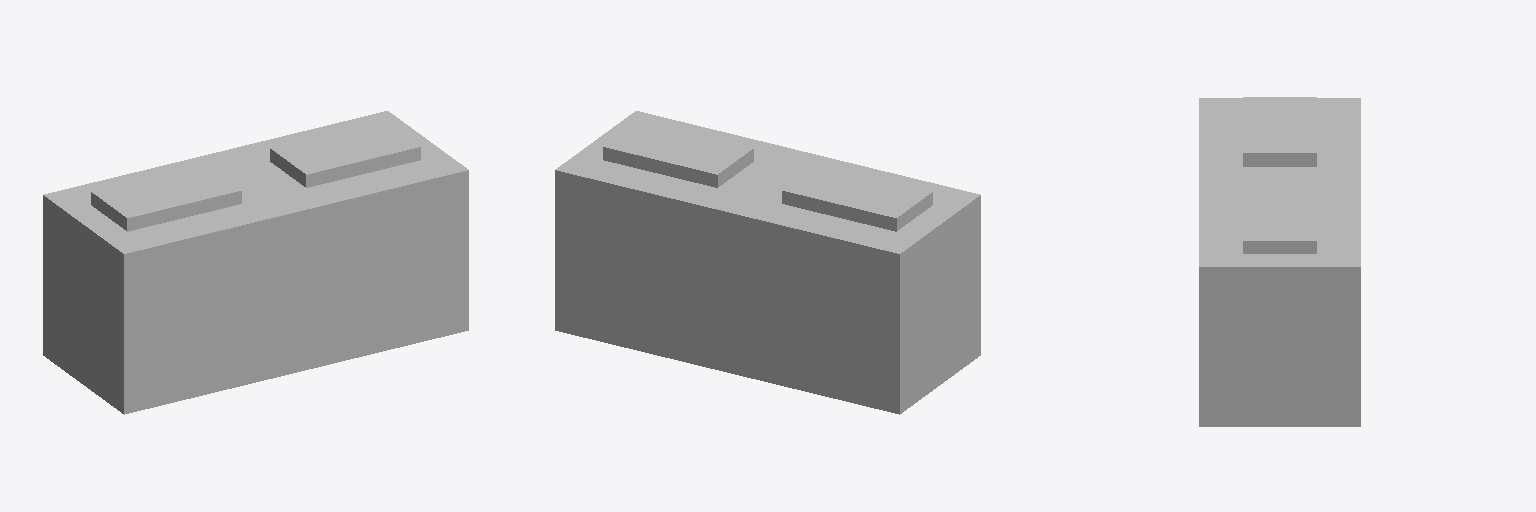
The model's file is table clock.vox.obj.
The picture shows the model from 3 angles: view 1: azimuth 30°, elevation 25°; view 2: azimuth 150°, elevation 25°; view 3: azimuth 270°, elevation 25°; orthographic projection.
Visible parts, largest first — view 1: object 1; view 2: object 1; view 3: object 1.
Part boxes in pixels (x1,y1,x2,y2): object 1: (43,111,468,414); object 1: (555,111,980,414); object 1: (1199,97,1360,426).
Bounding box in the file's own units: 2.7 × 1.3 × 1.1.